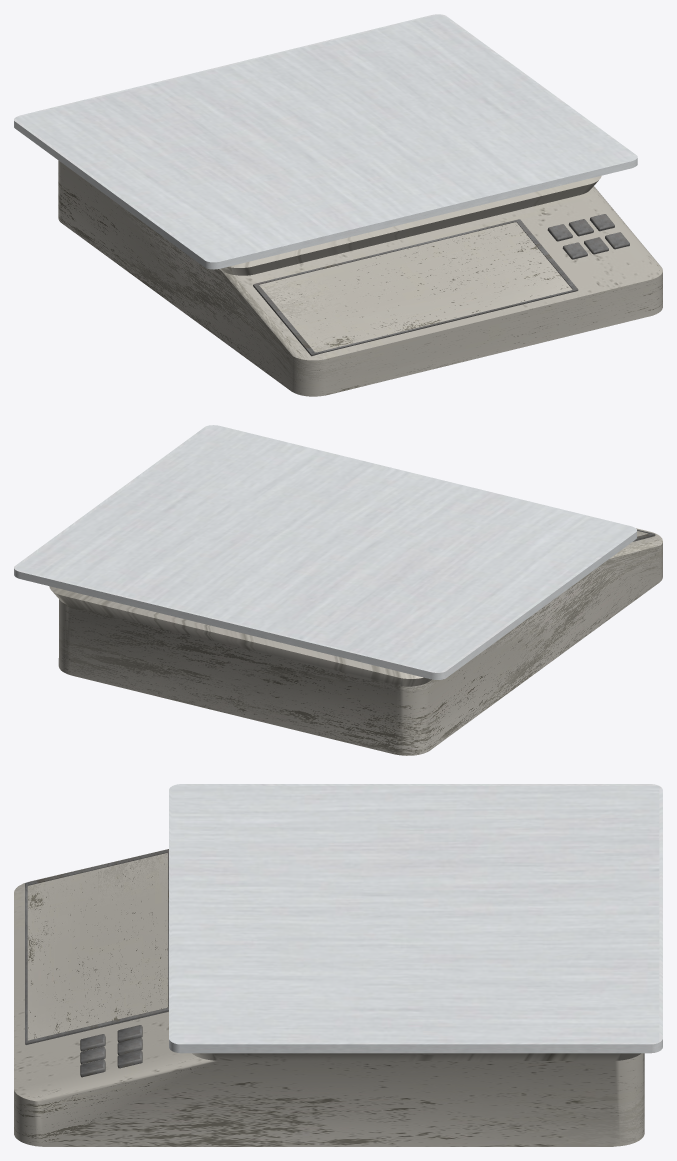
The model's file is lowpoly_kitchen_scales.glb.
3 views of the same model, one above another, from view 1: azimuth 30°, elevation 25°; view 2: azimuth 150°, elevation 25°; view 3: azimuth 270°, elevation 25° (orthographic). The views are drawn at different scales.
Parts seen in each view (by area): view 1: Scales; view 2: Scales; view 3: Scales.
Part boxes in pixels (box(x1,y1,x2,y2)): Scales: box(14, 14, 662, 396); Scales: box(14, 425, 662, 755); Scales: box(14, 784, 662, 1146).
Size of the model in its own units: 2.34 by 0.522 by 2.47.
Materials: 4 (4 with a texture image).
